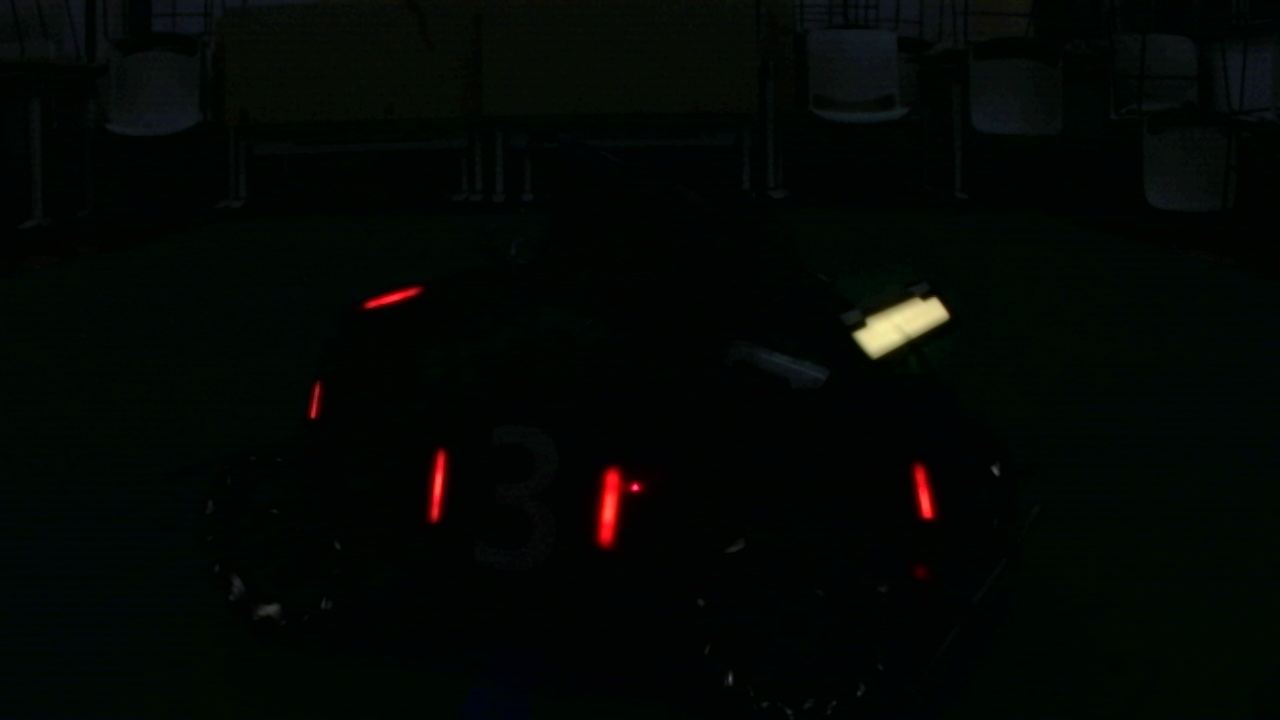lamp: (596, 463, 625, 548), (909, 459, 940, 525), (423, 449, 447, 521)
notpair1: (595, 462, 942, 547)
pair1: (428, 451, 625, 546)
